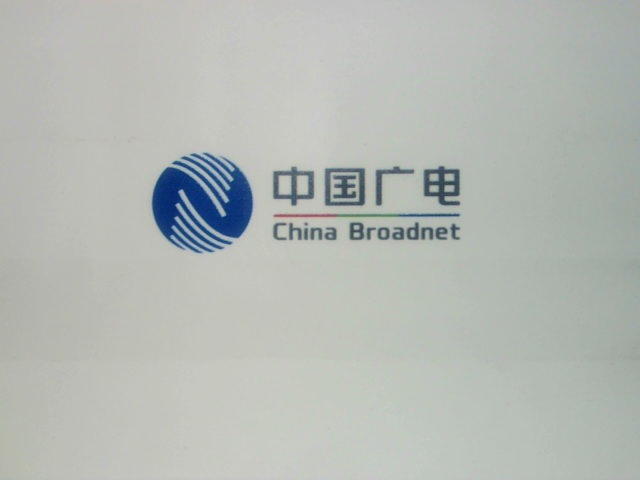AW_ChinaBroadNet: (135, 126, 498, 263)
